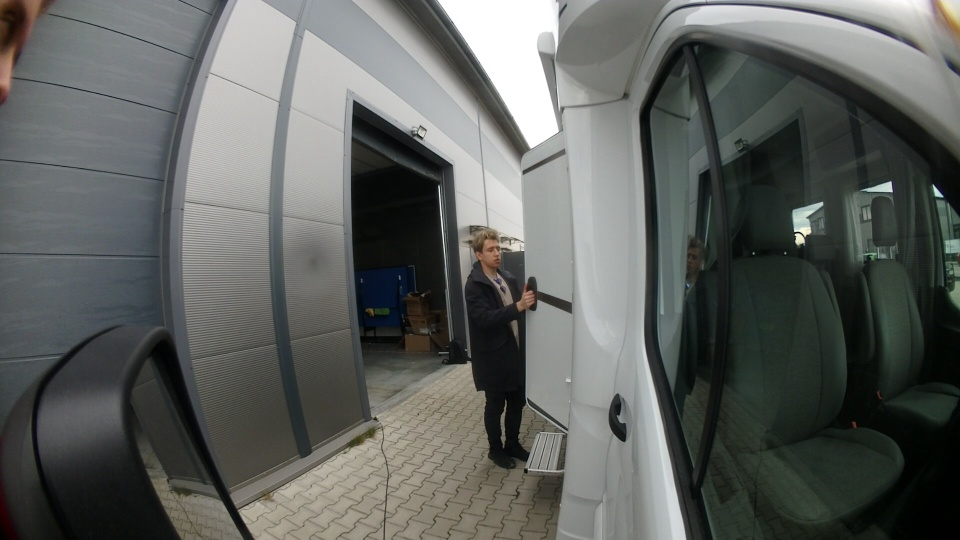door_front: (509, 125, 589, 438)
step_front: (514, 425, 572, 480)
